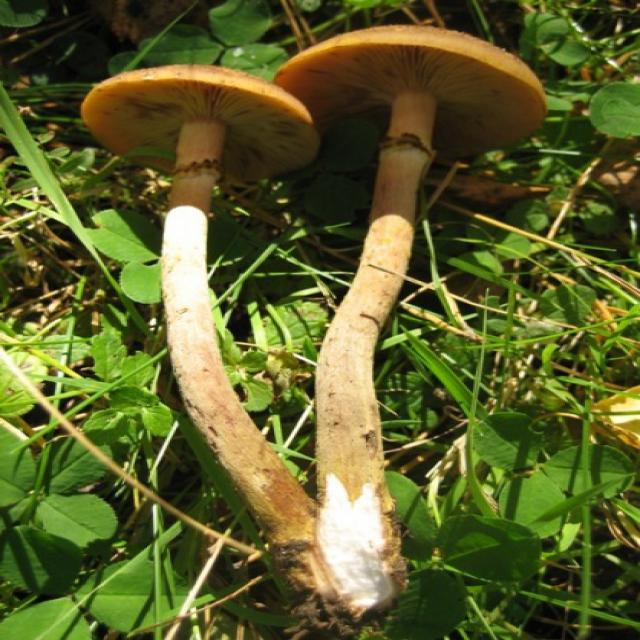Armillaria mellea: (83, 26, 546, 622)
